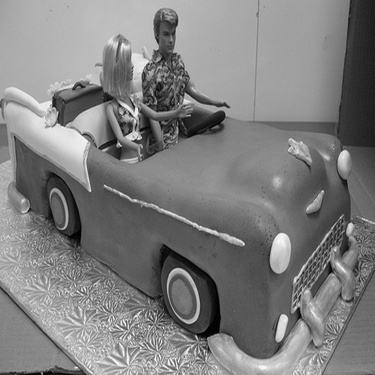car: (7, 27, 369, 372)
